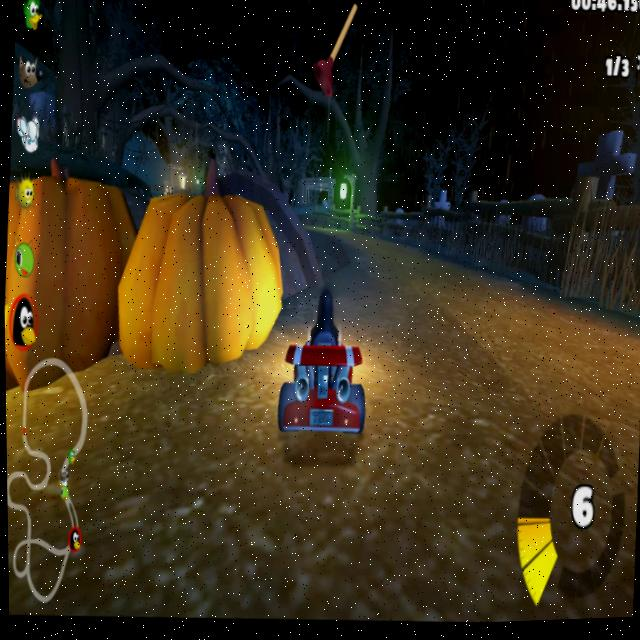obstacle: (114, 181, 291, 398)
player_kart: (271, 283, 382, 453)
track: (323, 234, 510, 340)
